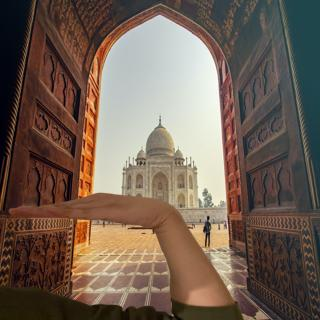WAIT: (4, 186, 170, 233)
